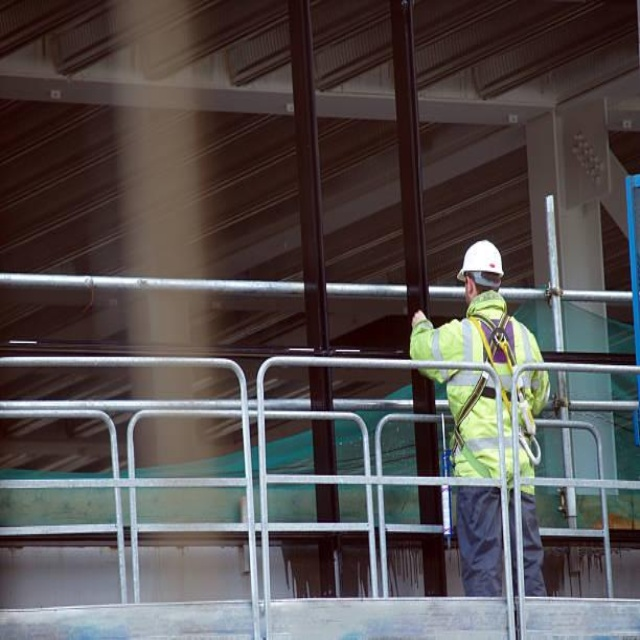Arnes_seguridad: (452, 308, 538, 496)
